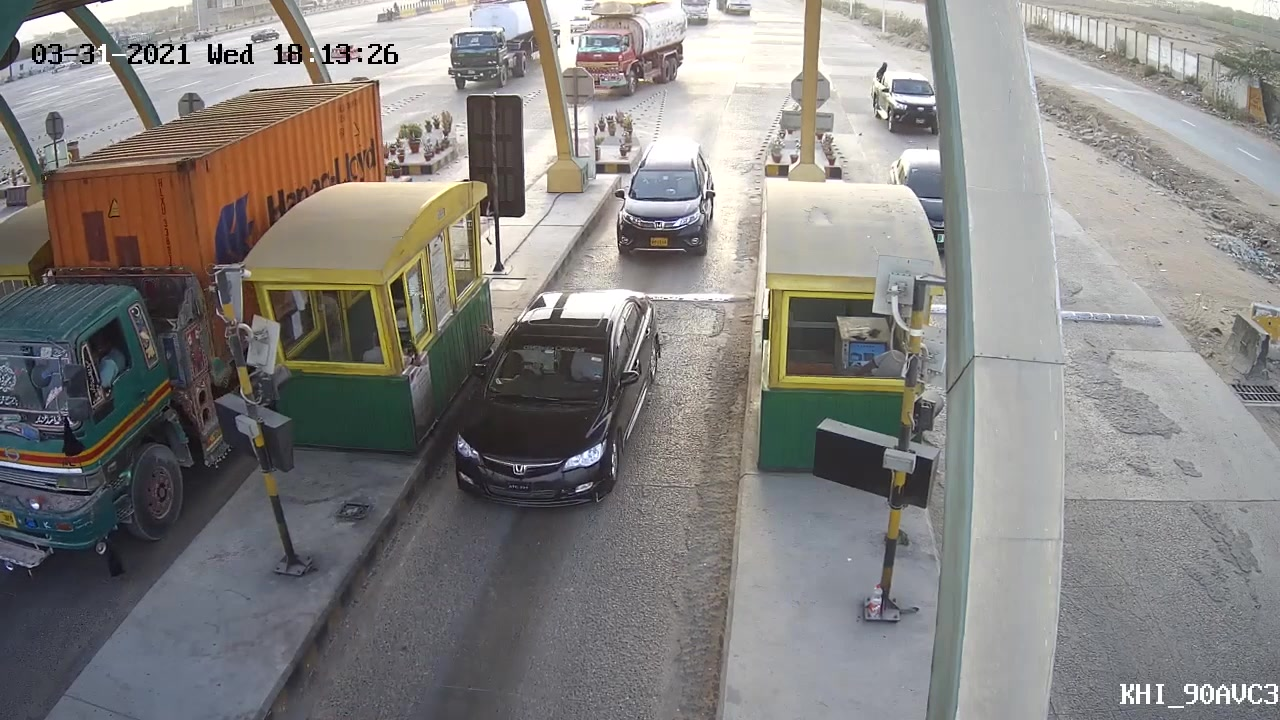F1: (438, 281, 670, 510)
